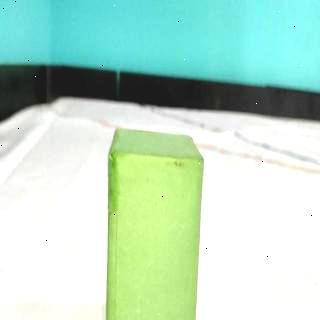greenbox: (108, 127, 206, 320)
